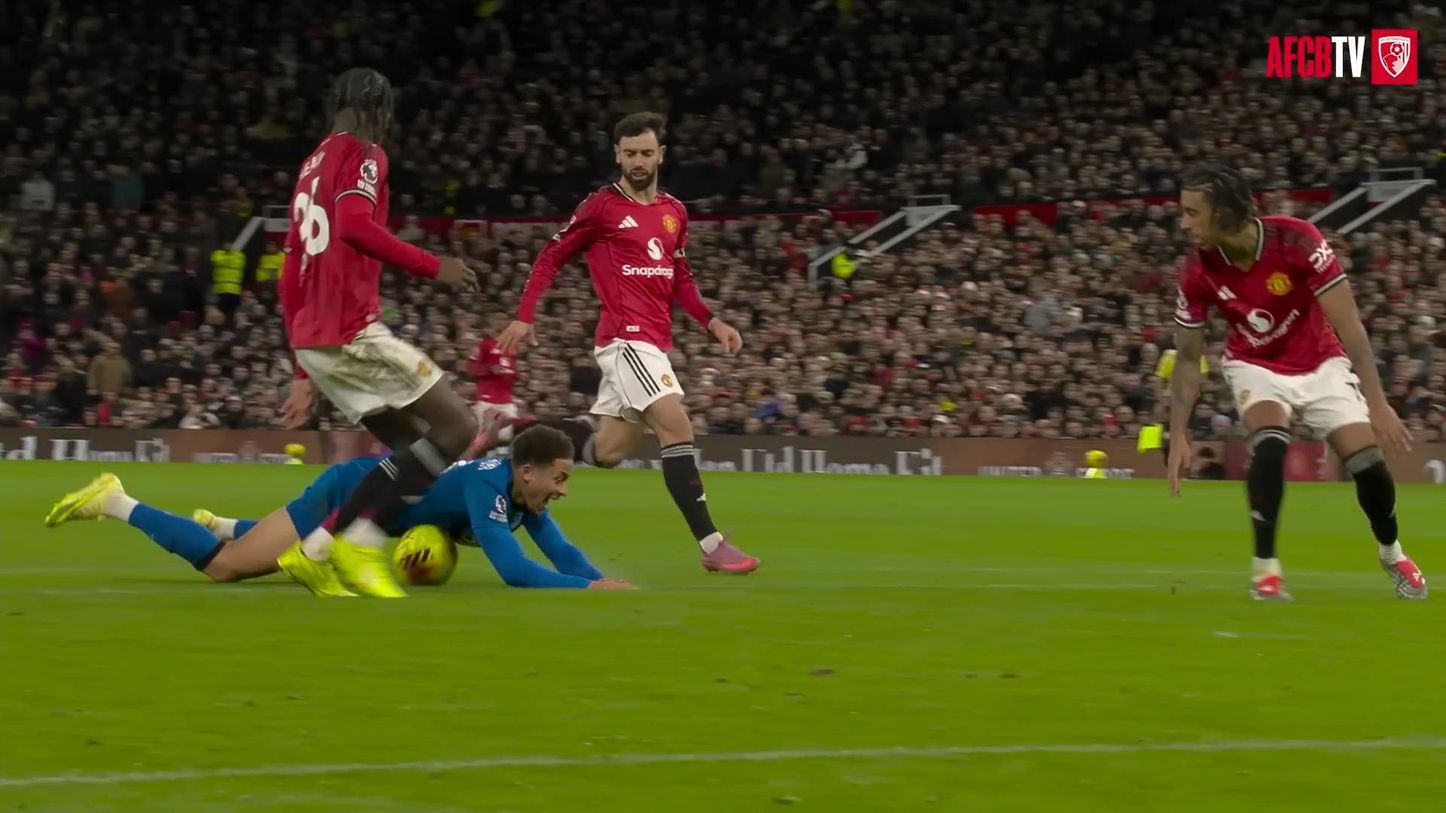football: (393, 525, 456, 585)
player: (499, 113, 759, 574), (1167, 166, 1426, 598), (279, 69, 477, 596), (46, 458, 383, 581), (468, 325, 518, 443)
referee: (1146, 349, 1176, 464)
